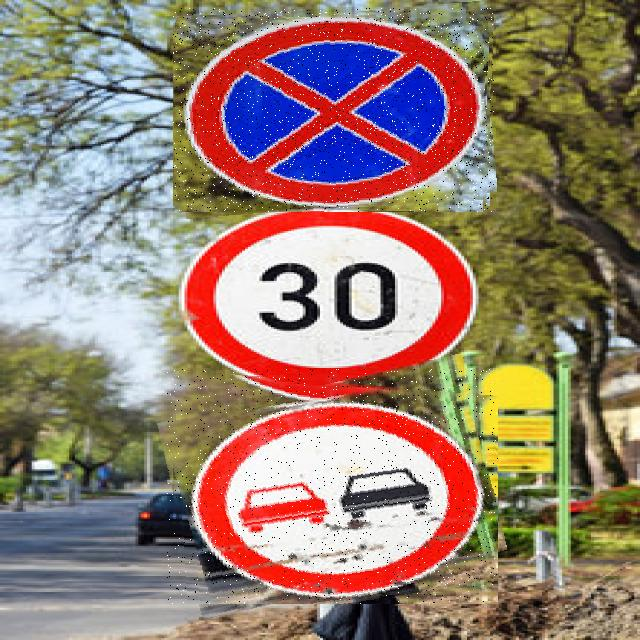no overtaking: (167, 369, 498, 604)
no stopping: (173, 8, 494, 212)
